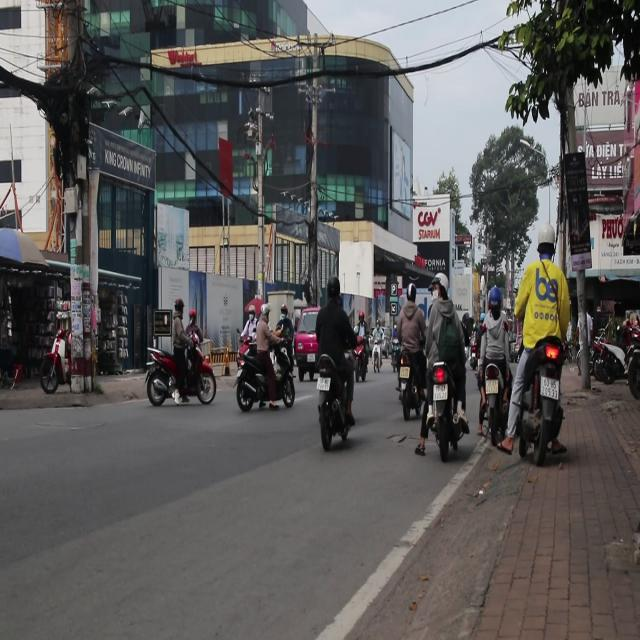motorbike: (146, 338, 218, 408), (517, 345, 558, 461), (233, 343, 296, 412), (426, 348, 462, 462), (316, 354, 354, 451), (472, 352, 503, 445), (588, 328, 627, 386), (394, 337, 418, 430), (622, 318, 640, 402), (354, 341, 369, 385)
truck: (294, 306, 320, 382)
